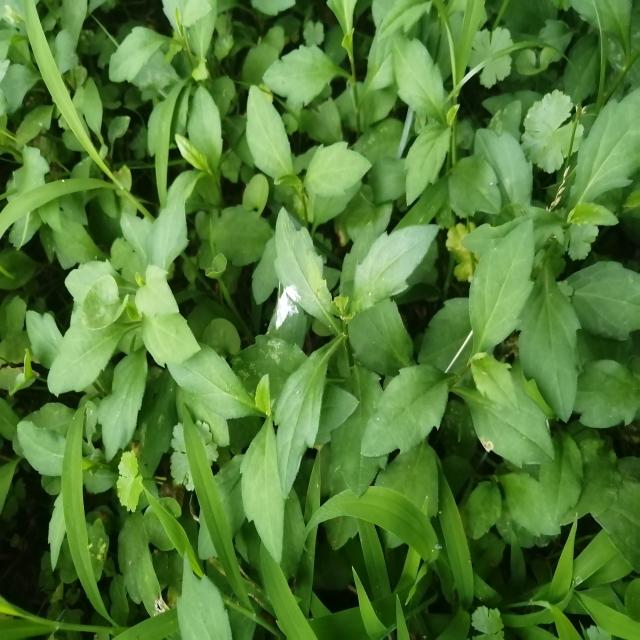Indian aster: (378, 233, 590, 483), (235, 211, 408, 467), (48, 218, 245, 432)
